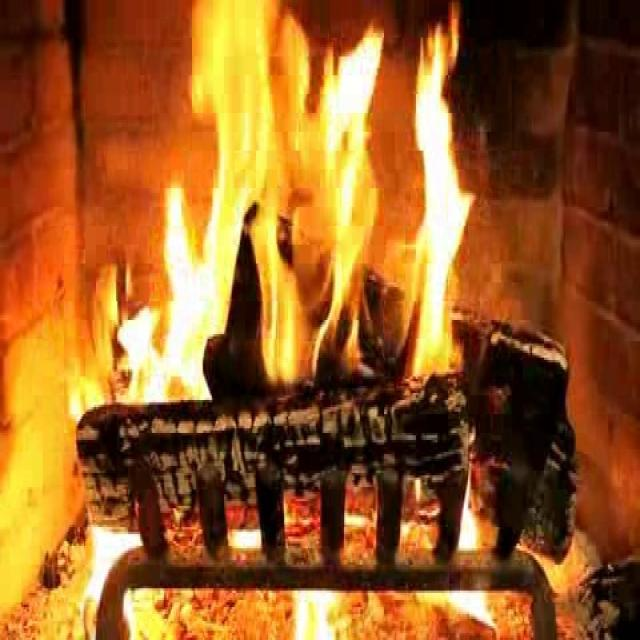Fire: (174, 14, 472, 377)
